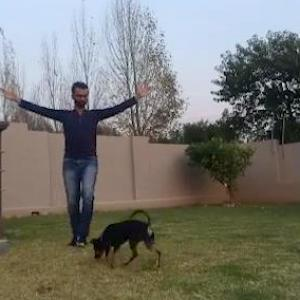takeoff: (1, 70, 155, 258)
